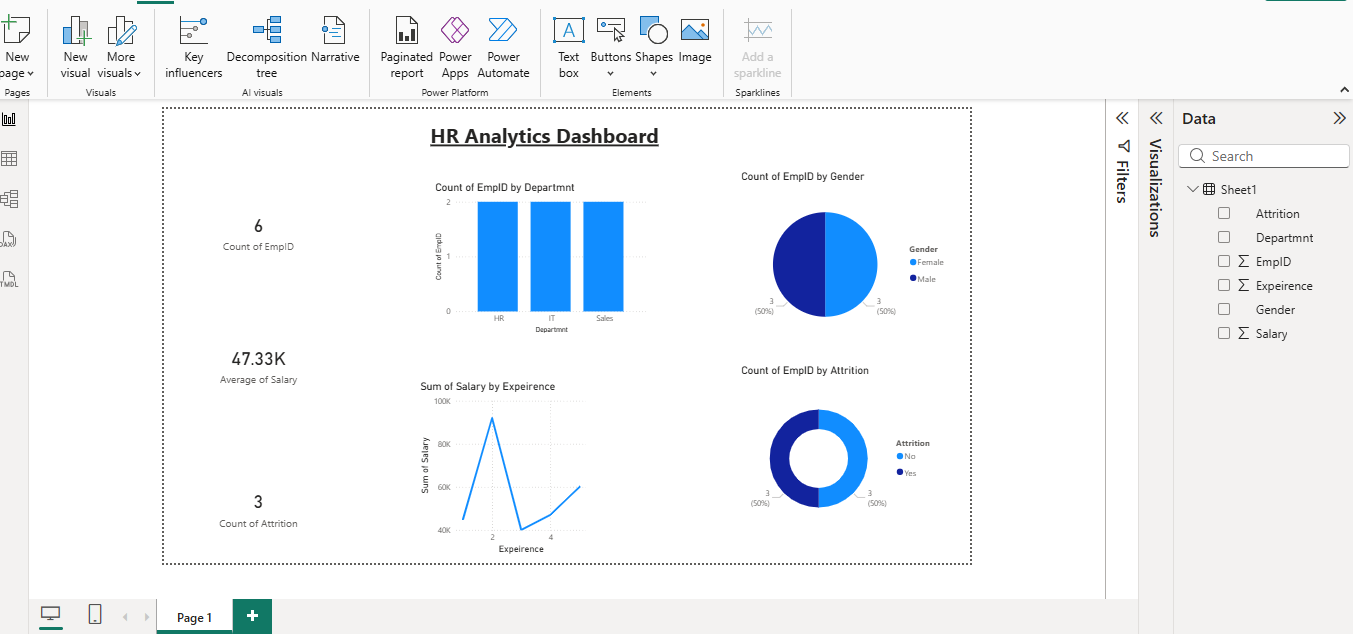

The dashboard page shown, as its layout file describes it:
{"tool":"powerbi","page":{"name":"Page 1","canvas":[1280,720],"ordinal":0},"visuals":[{"type":"card","fields":{"Values":["CountNonNull(Sheet1.EmpID)"]},"box":[9.5,76.2,281,234.9],"z":0},{"type":"card","fields":{"Values":["Avg(Sheet1.Salary)"]},"box":[9.5,265.1,281,279.4],"z":1000},{"type":"card","fields":{"Values":["CountNonNull(Sheet1.Attrition)"]},"box":[9.5,544.4,281,176.2],"z":2000},{"type":"clusteredColumnChart","fields":{"Category":["Sheet1.Departmnt"],"Y":["CountNonNull(Sheet1.EmpID)"]},"box":[425.4,114.3,346,246],"z":3000},{"type":"pieChart","fields":{"Category":["Sheet1.Gender"],"Y":["CountNonNull(Sheet1.EmpID)"]},"box":[911.1,96.8,342.9,281],"z":4000},{"type":"lineChart","fields":{"Y":["Sum(Sheet1.Salary)"],"Category":["Sheet1.Expeirence"]},"box":[401.6,430.2,273,281],"z":5000},{"type":"donutChart","fields":{"Category":["Sheet1.Attrition"],"Y":["CountNonNull(Sheet1.EmpID)"]},"box":[911.1,404.8,327,281],"z":6000},{"type":"textbox","box":[685,430,172,281],"z":7000},{"type":"textbox","box":[366.7,14.3,474.6,61.9],"z":7001}]}

Visuals, with their boxes on the page's 1280x720 design canvas (x1, y1, x2, y2). These are canvas units, not pixel positions in the 1353x634 screenshot, which may show the page scaled, cropped or inside an application window:
card - CountNonNull(Sheet1.EmpID): box=[10, 76, 290, 311]
card - Avg(Sheet1.Salary): box=[10, 265, 290, 544]
card - CountNonNull(Sheet1.Attrition): box=[10, 544, 290, 721]
clusteredColumnChart - Sheet1.Departmnt x CountNonNull(Sheet1.EmpID): box=[425, 114, 771, 360]
pieChart - Sheet1.Gender x CountNonNull(Sheet1.EmpID): box=[911, 97, 1254, 378]
lineChart - Sum(Sheet1.Salary) x Sheet1.Expeirence: box=[402, 430, 675, 711]
donutChart - Sheet1.Attrition x CountNonNull(Sheet1.EmpID): box=[911, 405, 1238, 686]
textbox: box=[685, 430, 857, 711]
textbox: box=[367, 14, 841, 76]
